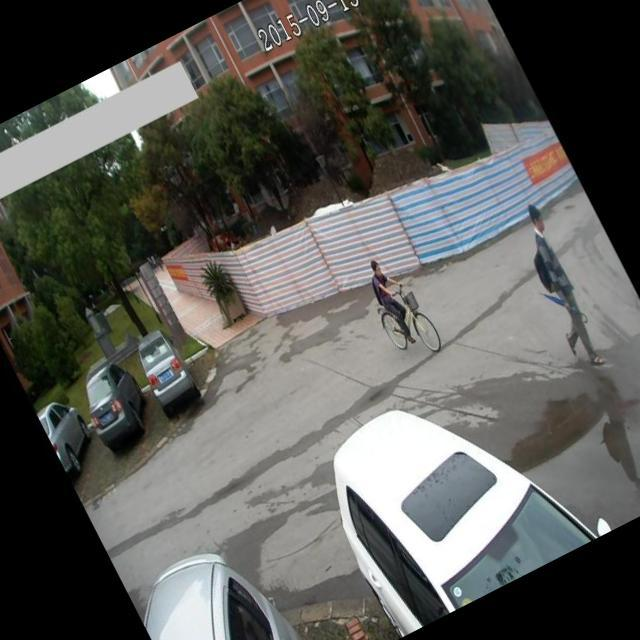person: (499, 194, 621, 380), (357, 248, 422, 352)
